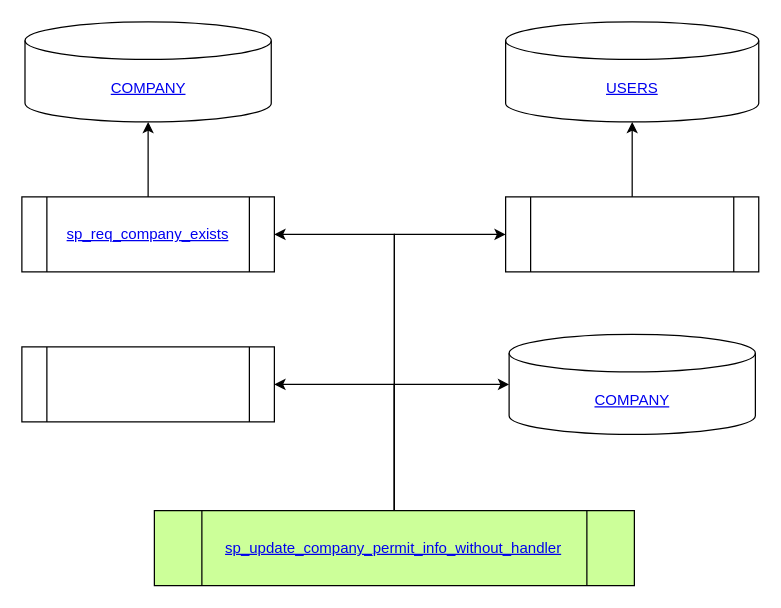
The diagram is 781 pixels wide and 608 high, and some of its shapes have lost their labels. Each missing label, with the box of its shape:
sp_req_current_time: (21, 346, 274, 422)
sp_req_user_exists: (504, 196, 759, 272)
